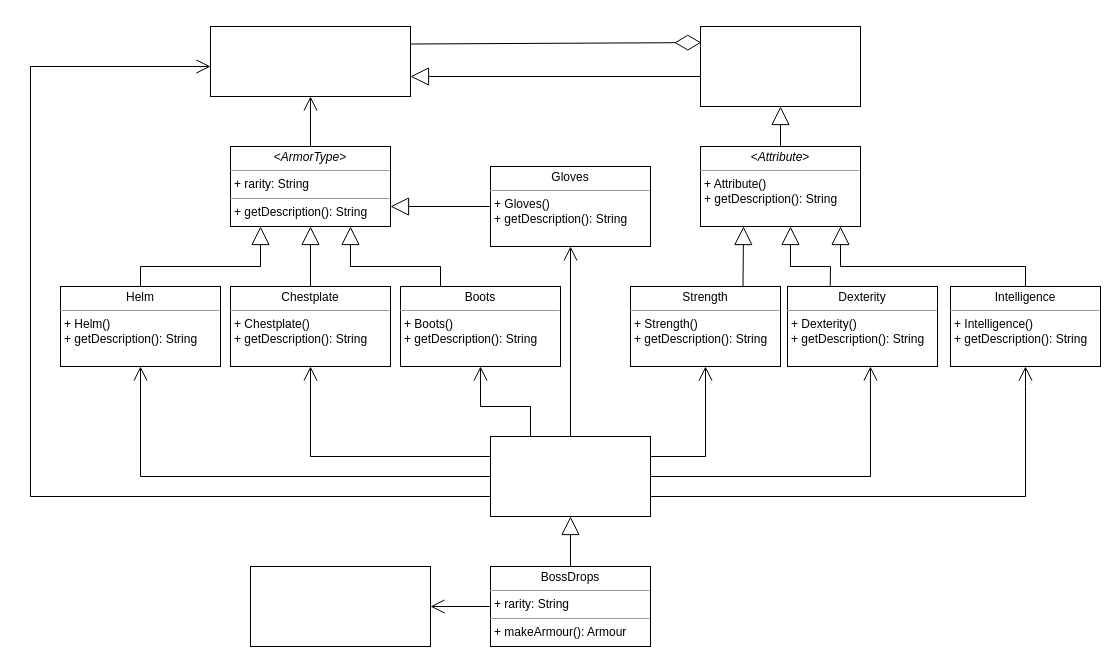
Image size: 1118x664. Some labels were removed from this diagram. The shapes that lost their labels are listed below. From the top down, each one's centre as x and y in pixels, then its label:
At [310,61]: "<Armour> + getDescription(): String".
At [780,66]: "< ArmourDecorator > # armour: Armour + ArmourDecorator()".
At [570,476]: "< ArmourFactory > + armour: Armour + getArmour(): Armour".
At [340,606]: "RandomAttribute + getRandomAttribute(): String".
